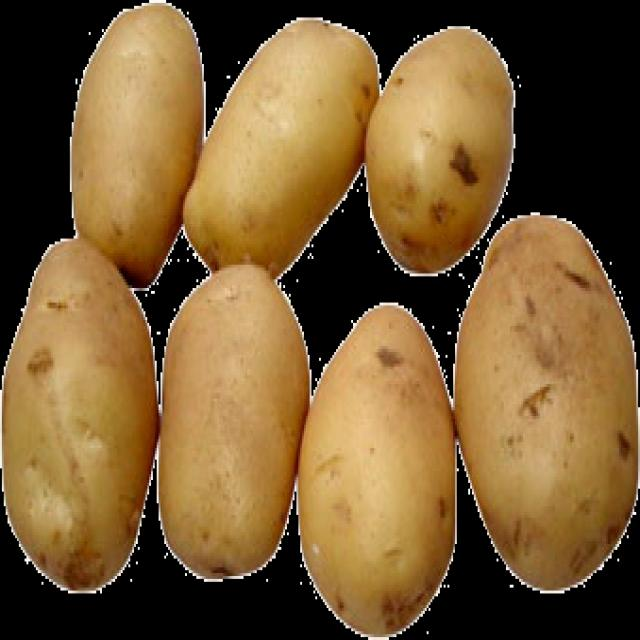potato: (449, 215, 640, 591), (3, 229, 158, 585), (292, 302, 456, 638), (179, 12, 381, 273), (162, 262, 306, 580), (64, 3, 204, 285), (362, 20, 517, 273)
